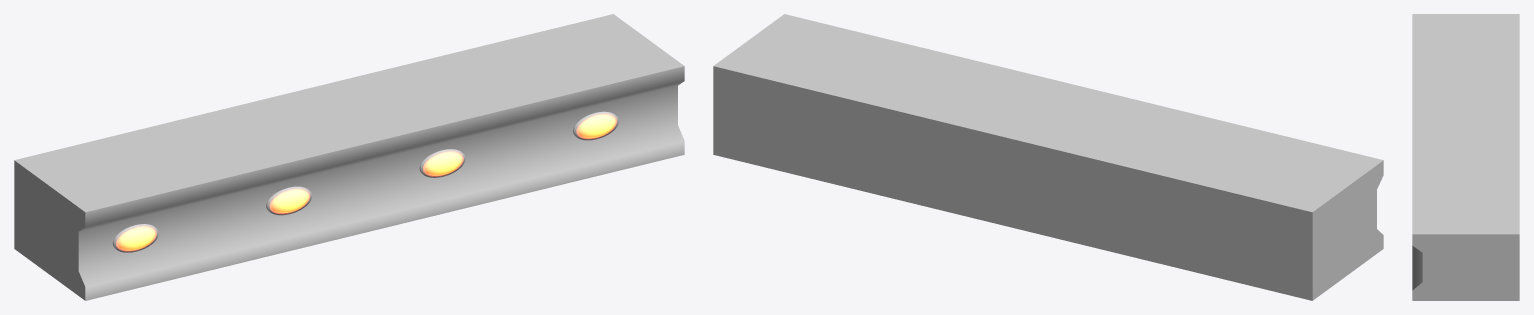
The model's file is Modul_a02_L.fbx.
The picture shows the model from 3 angles, left to right: view 1: azimuth 30°, elevation 25°; view 2: azimuth 150°, elevation 25°; view 3: azimuth 270°, elevation 25°; orthographic projection. The views are drawn at different scales.
Parts seen in each view (by area): view 1: Modul_a02_L; view 2: Modul_a02_L; view 3: Modul_a02_L.
Boxes of the visible parts, box(x1,y1,x2,y2) form: Modul_a02_L: box(14, 14, 684, 300); Modul_a02_L: box(713, 14, 1383, 300); Modul_a02_L: box(1412, 14, 1519, 300).
Bounding box in the file's own units: 213 × 30.14 × 43.92.
